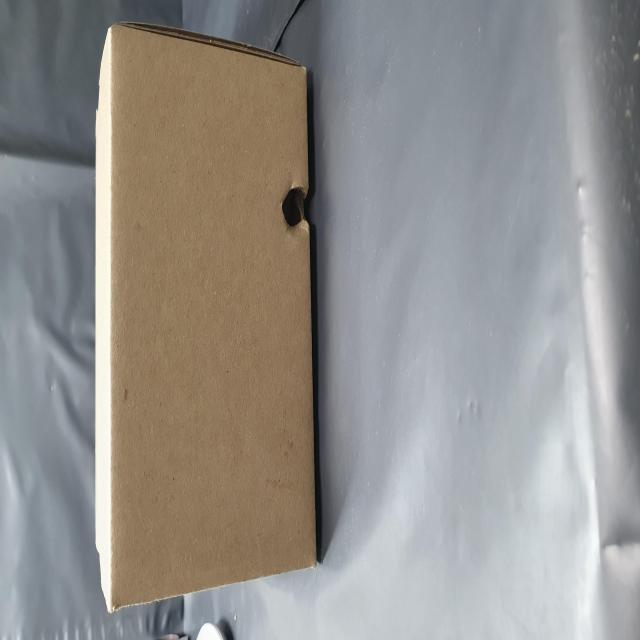damaged: (228, 494, 258, 550)
